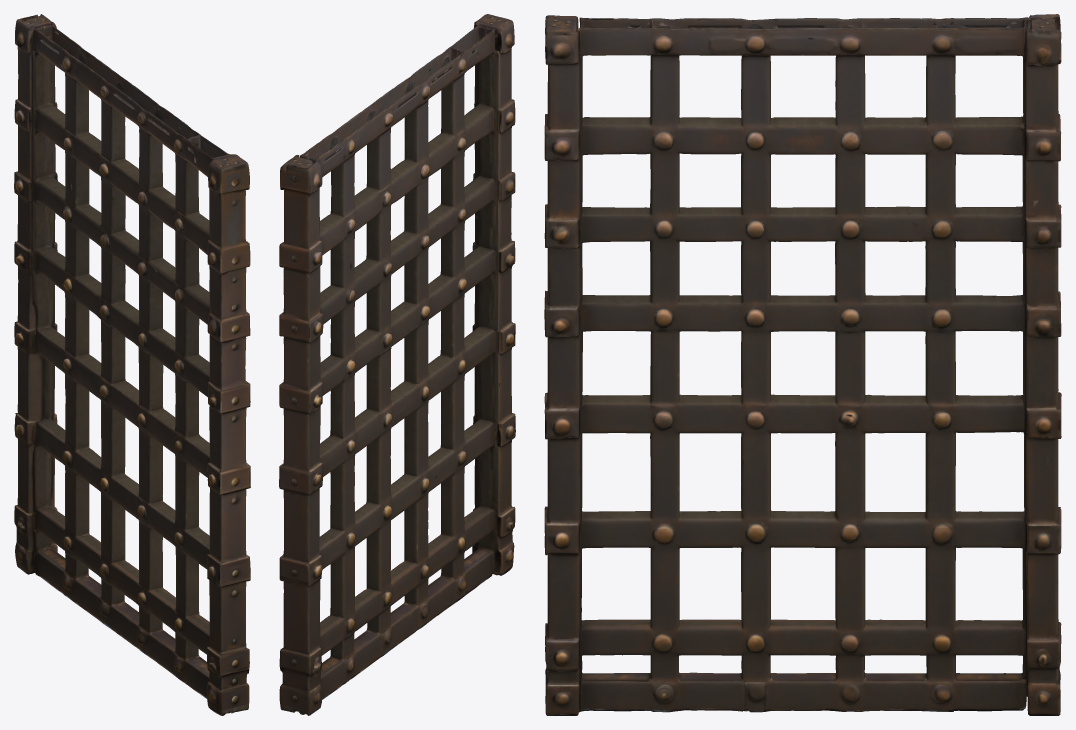
The model's file is Iron_Grid_Panel_0723210315_texture.fbx.
3 renders of one model, left to right at view 1: azimuth 30°, elevation 25°; view 2: azimuth 150°, elevation 25°; view 3: azimuth 270°, elevation 25°, orthographic. The views are drawn at different scales.
Visible parts, largest first — view 1: input; view 2: input; view 3: input.
Part boxes in pixels (box(x1,y1,x2,y2)): input: box(14, 14, 250, 715); input: box(279, 14, 515, 715); input: box(544, 14, 1061, 715).
Bounding box in the file's own units: 14.27 × 200 × 137.
Materials: 1 (1 with a texture image).
